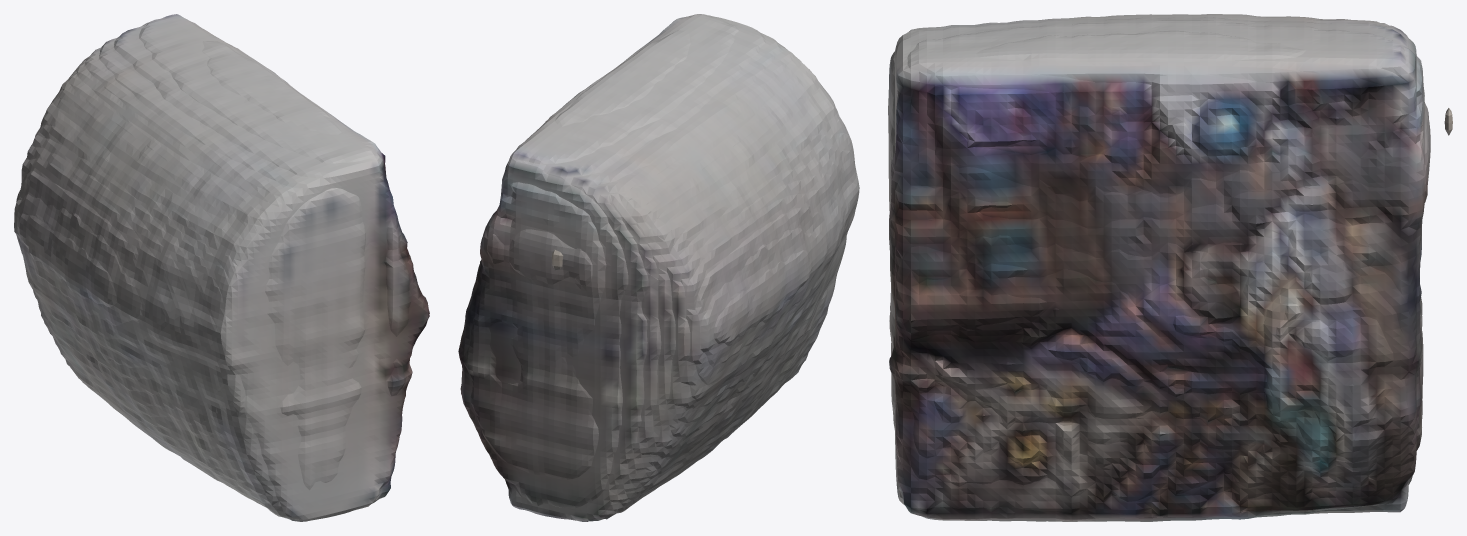
The model's file is leader-owl-archivist.glb.
3 renders of one model, left to right at view 1: azimuth 30°, elevation 25°; view 2: azimuth 150°, elevation 25°; view 3: azimuth 270°, elevation 25°, orthographic. The views are drawn at different scales.
Visible parts, largest first — view 1: world; view 2: world; view 3: world.
Part boxes in pixels (x1,y1,x2,y2): world: (14,14,429,521); world: (458,14,859,521); world: (888,14,1452,521).
Size of the model in its own units: 0.6258 by 0.8804 by 0.964.
